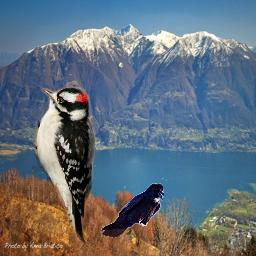Crow: (101, 183, 164, 238)
Woodpecker: (32, 87, 95, 245)
